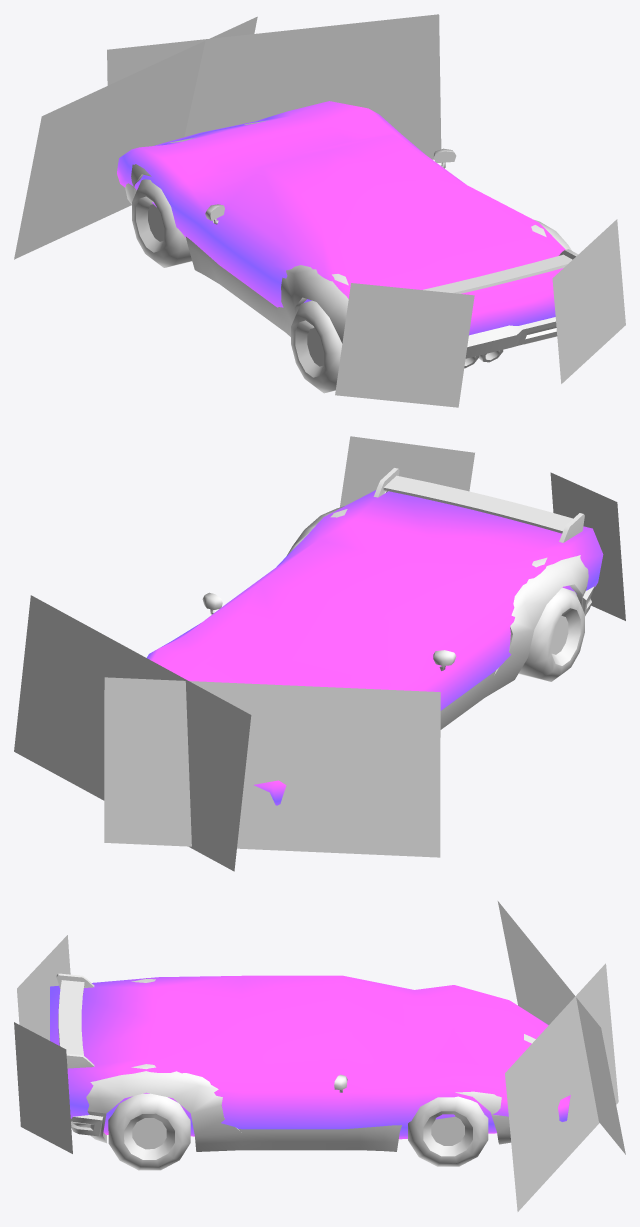
Rendered from FordGT.fbx.
The picture shows the model from 3 angles, top to bottom: view 1: azimuth 30°, elevation 25°; view 2: azimuth 150°, elevation 25°; view 3: azimuth 270°, elevation 25°; orthographic projection. The views are drawn at different scales.
Visible parts, largest first — view 1: FordGTProxy, BMWFrontLights, BMWRearLights, FordGT, FordGTWheel_LB, FordGTWheel_LF, FordGTRearBumper2, FordGTSpoiler1; view 2: BMWFrontLights, FordGTProxy, BMWRearLights, FordGT, FordGTSpoiler1, FordGTWheel_LB; view 3: FordGTProxy, BMWFrontLights, FordGT, BMWRearLights, FordGTWheel_RB, FordGTWheel_RF, FordGTSpoiler1, FordGTRearBumper2.
Boxes of the visible parts, x1=… form: FordGTProxy: x1=117, y1=101, x2=565, y2=335; BMWFrontLights: x1=14, y1=14, x2=441, y2=259; BMWRearLights: x1=335, y1=219, x2=625, y2=407; FordGT: x1=131, y1=120, x2=571, y2=342; FordGTWheel_LB: x1=291, y1=300, x2=342, y2=393; FordGTWheel_LF: x1=132, y1=179, x2=191, y2=267; FordGTRearBumper2: x1=342, y1=317, x2=557, y2=368; FordGTSpoiler1: x1=423, y1=249, x2=577, y2=293; BMWFrontLights: x1=14, y1=595, x2=440, y2=871; FordGTProxy: x1=147, y1=490, x2=603, y2=805; BMWRearLights: x1=340, y1=436, x2=625, y2=620; FordGT: x1=202, y1=506, x2=588, y2=729; FordGTSpoiler1: x1=373, y1=468, x2=584, y2=542; FordGTWheel_LB: x1=518, y1=587, x2=584, y2=681; FordGTProxy: x1=50, y1=975, x2=570, y2=1139; BMWFrontLights: x1=497, y1=901, x2=625, y2=1211; FordGT: x1=86, y1=978, x2=535, y2=1151; BMWRearLights: x1=14, y1=935, x2=72, y2=1153; FordGTWheel_RB: x1=108, y1=1093, x2=190, y2=1170; FordGTWheel_RF: x1=408, y1=1096, x2=488, y2=1166; FordGTSpoiler1: x1=56, y1=973, x2=94, y2=1068; FordGTRearBumper2: x1=70, y1=1111, x2=106, y2=1142.
Size of the model in its own units: 3.93 by 5.53 by 1.43.
